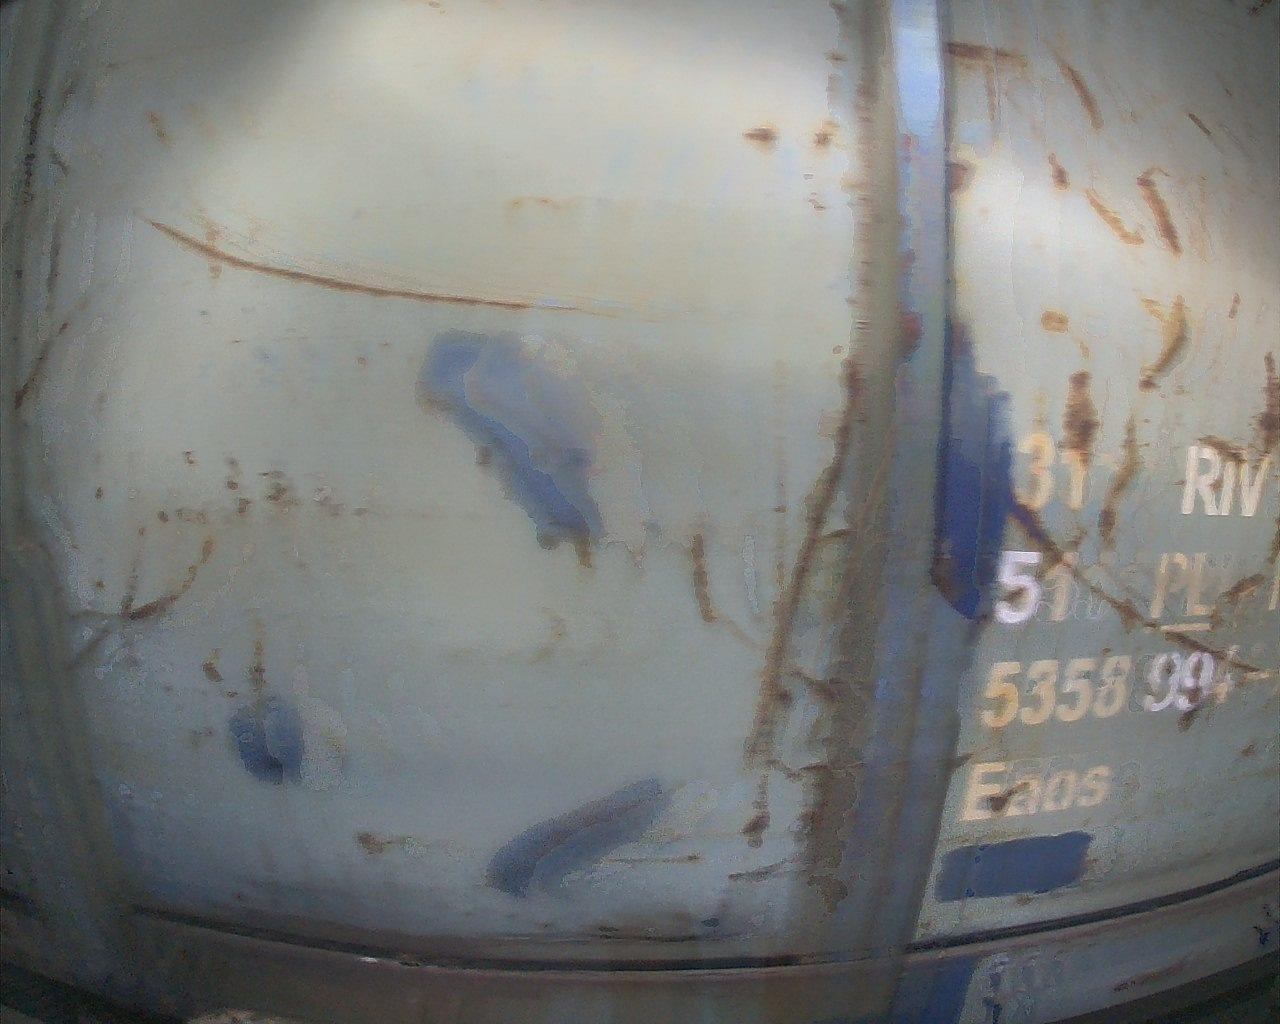UIC: (957, 430, 1280, 823)
